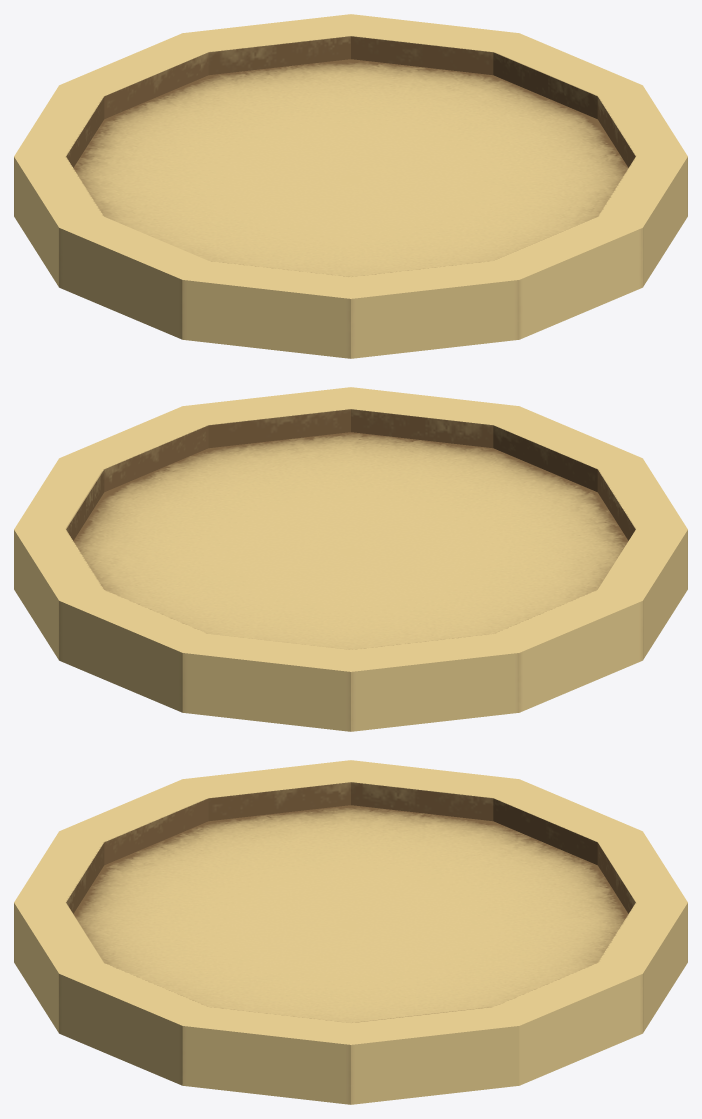
The model's file is Coin.fbx.
The picture shows the model from 3 angles, top to bottom: view 1: azimuth 30°, elevation 25°; view 2: azimuth 150°, elevation 25°; view 3: azimuth 270°, elevation 25°; orthographic projection.
Parts seen in each view (by area): view 1: Coin; view 2: Coin; view 3: Coin.
Boxes of the visible parts, left/top/right/bottom form: Coin: left=14, top=14, right=687, bottom=358; Coin: left=14, top=387, right=687, bottom=731; Coin: left=14, top=760, right=687, bottom=1104.
Bounding box in the file's own units: 200 × 19.62 × 200.
